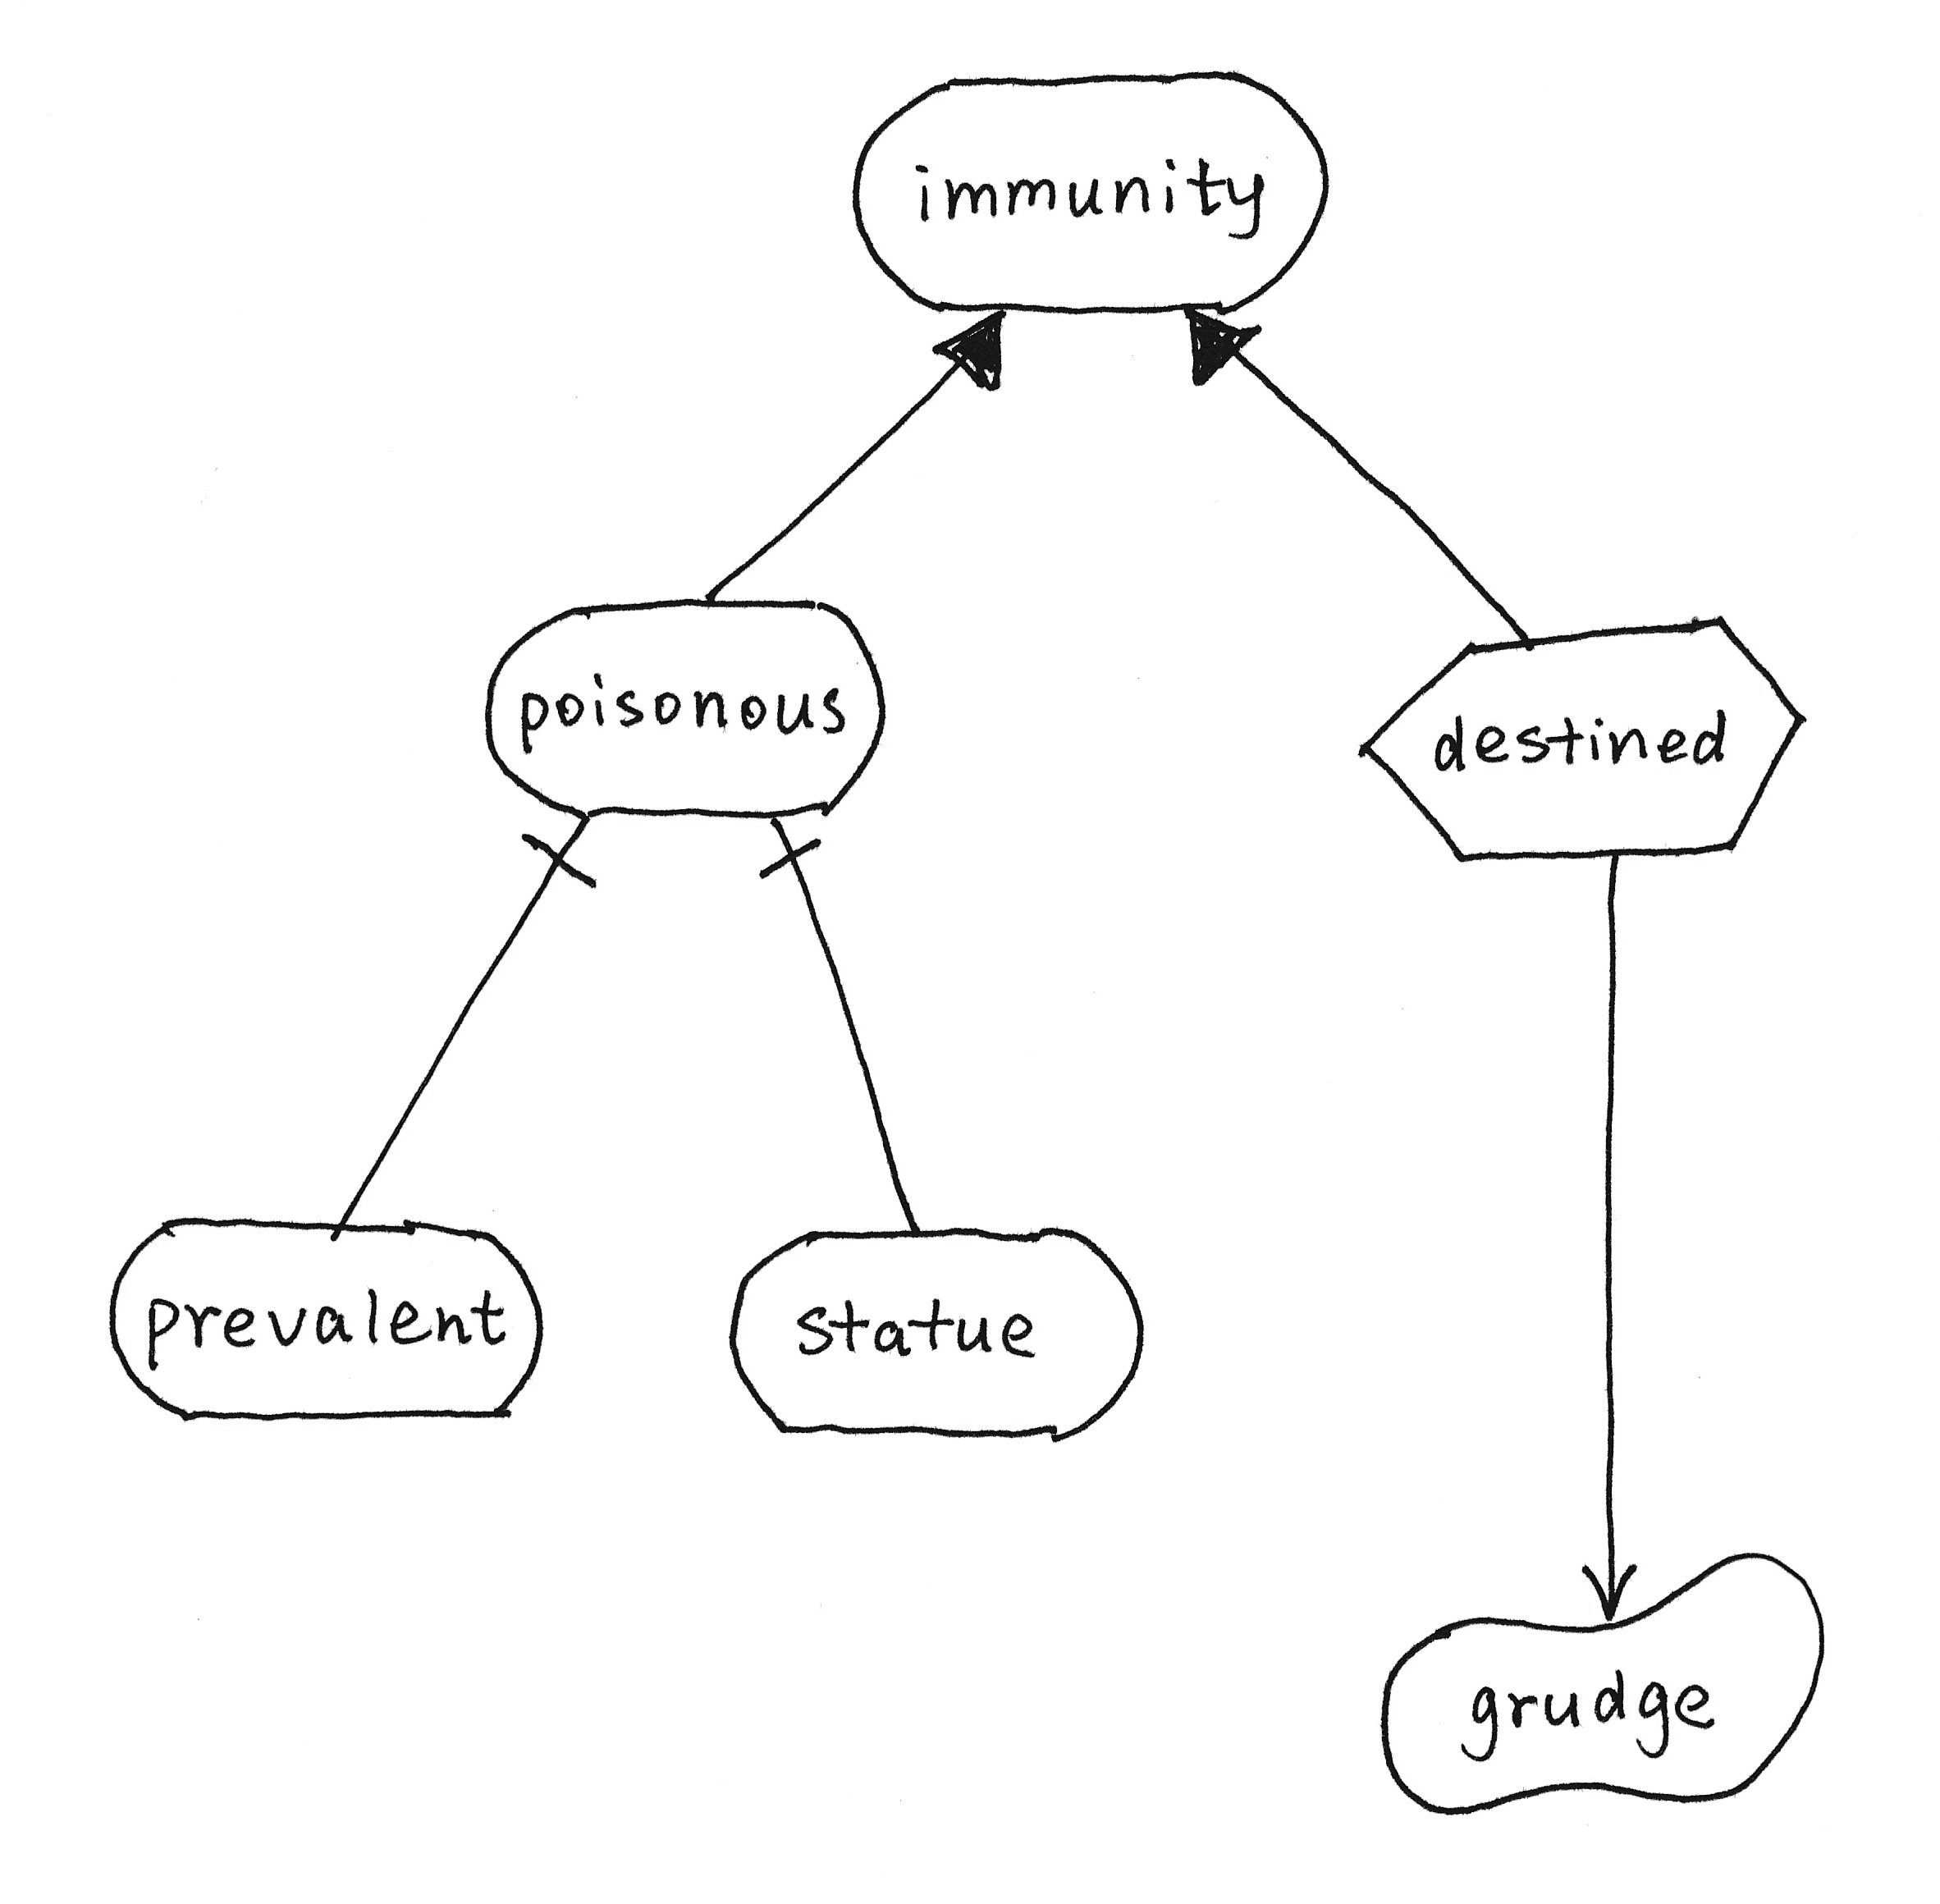and: (509, 790, 614, 901), (750, 804, 851, 896)
arrow: (1565, 1543, 1656, 1639)
goal: (833, 49, 1354, 335), (460, 577, 908, 847), (715, 1201, 1164, 1463), (89, 1193, 568, 1437)
or: (910, 295, 1028, 410), (1166, 295, 1279, 396)
quality: (1363, 1529, 1842, 1826)
task: (1335, 598, 1816, 882)
